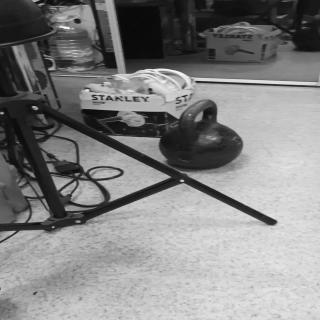girya: (160, 99, 244, 171)
